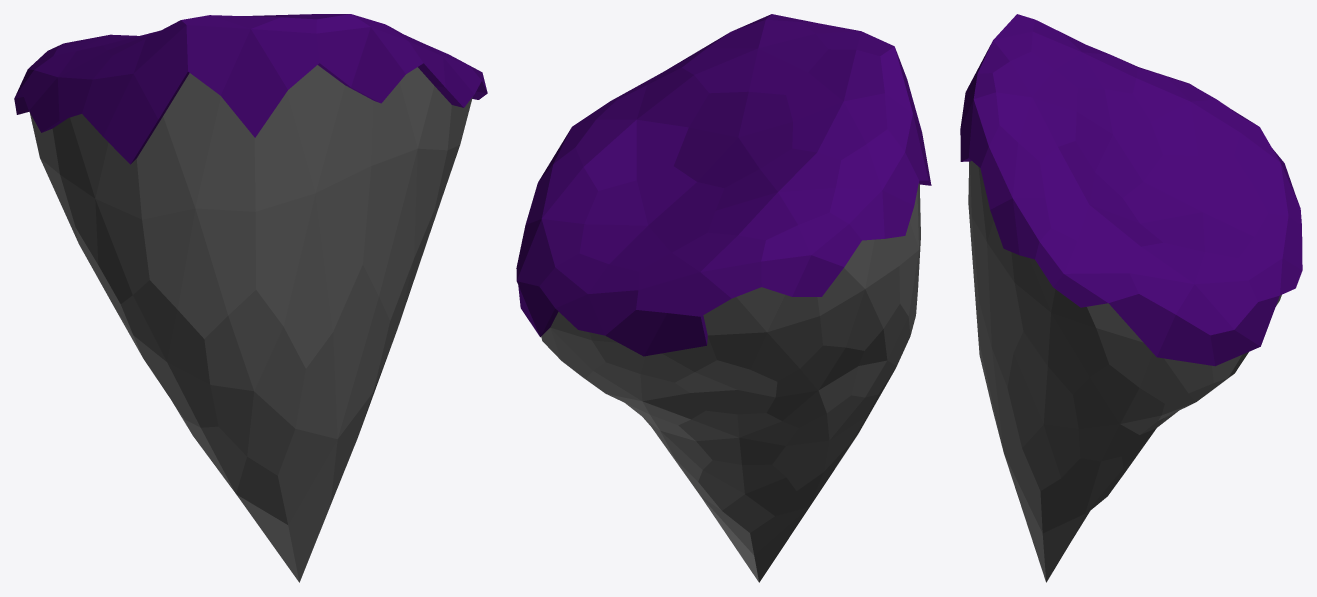
File: Floating Island 3.fbx
The picture shows the model from 3 angles, left to right: view 1: azimuth 30°, elevation 25°; view 2: azimuth 150°, elevation 25°; view 3: azimuth 270°, elevation 25°; orthographic projection. The views are drawn at different scales.
Visible parts, largest first — view 1: Icosphere.004; view 2: Icosphere.004; view 3: Icosphere.004.
Boxes of the visible parts, left/top/right/bottom form: Icosphere.004: left=14, top=14, right=487, bottom=582; Icosphere.004: left=516, top=14, right=931, bottom=582; Icosphere.004: left=960, top=14, right=1302, bottom=582.
Size of the model in its own units: 559 by 788 by 475.
